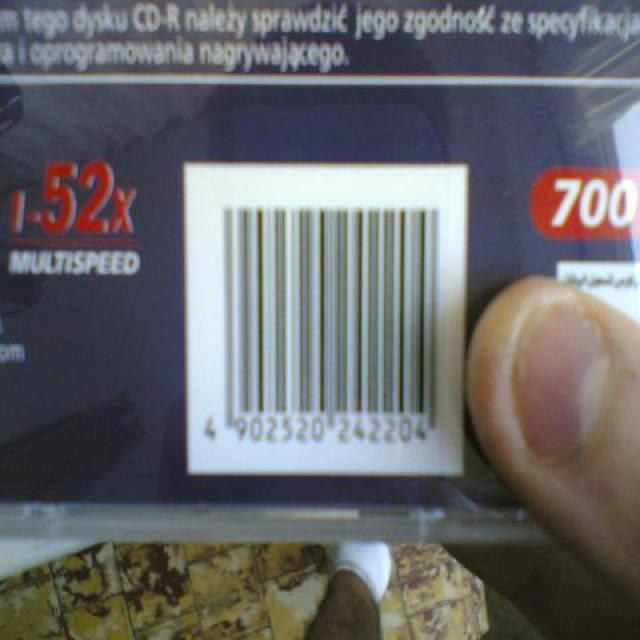Barcode: (183, 163, 464, 480)
